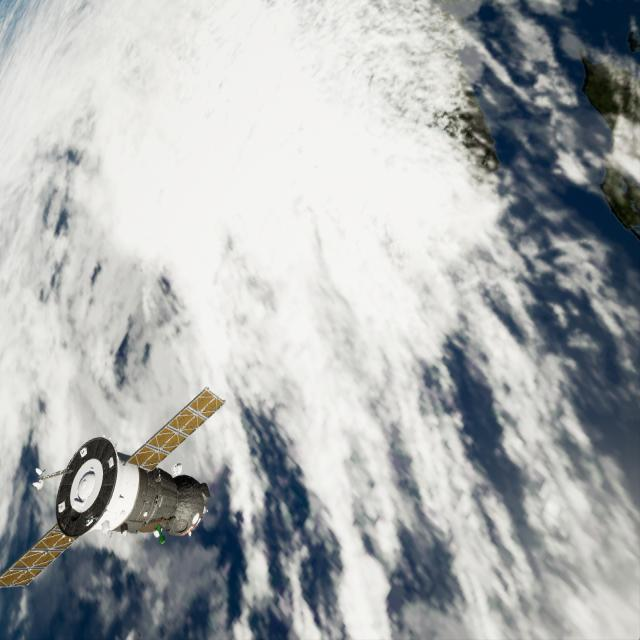Satellites revolving around earth: (1, 384, 227, 591)
